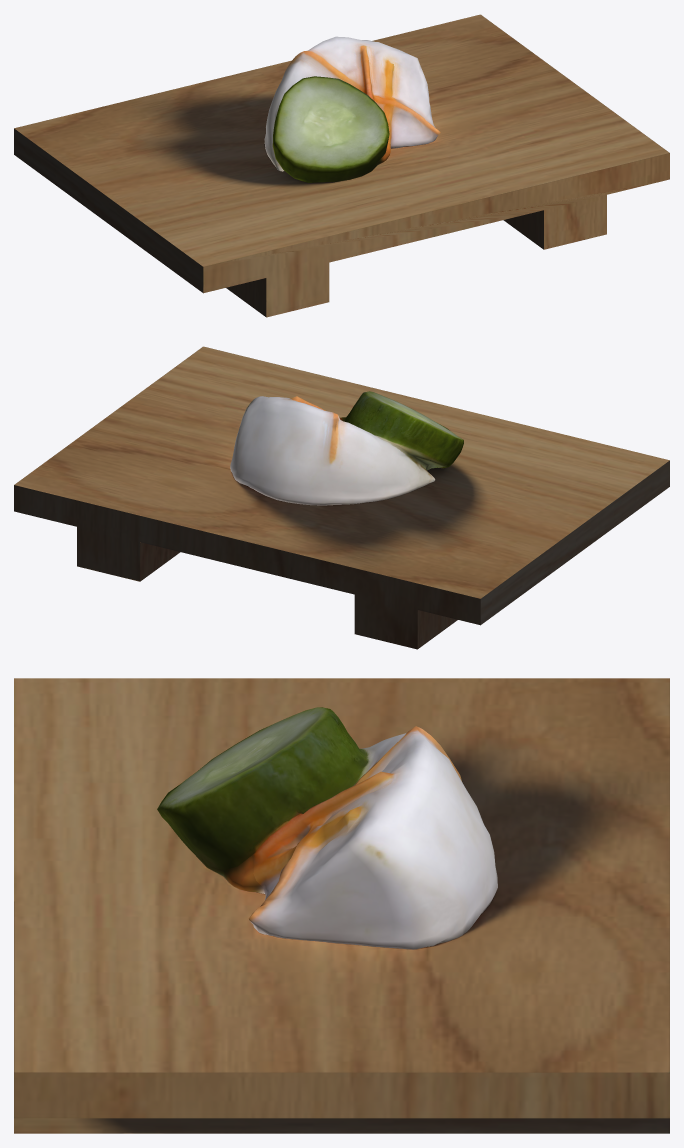
File: sushi_tukemono.glb
3 renders of one model, top to bottom at view 1: azimuth 30°, elevation 25°; view 2: azimuth 150°, elevation 25°; view 3: azimuth 270°, elevation 25°, orthographic. The views are drawn at different scales.
Parts seen in each view (by area): view 1: geta.vox, 07kabu; view 2: geta.vox, 07kabu; view 3: geta.vox, 07kabu.
Boxes of the visible parts, x1,y1,x2,y2 form: geta.vox: [14, 14, 669, 317]; 07kabu: [264, 36, 440, 182]; geta.vox: [14, 346, 669, 649]; 07kabu: [230, 391, 463, 505]; geta.vox: [14, 678, 669, 1133]; 07kabu: [157, 707, 497, 949].
Size of the model in its own units: 0.807 by 0.2455 by 0.5671.
2 materials, 2 textured.
